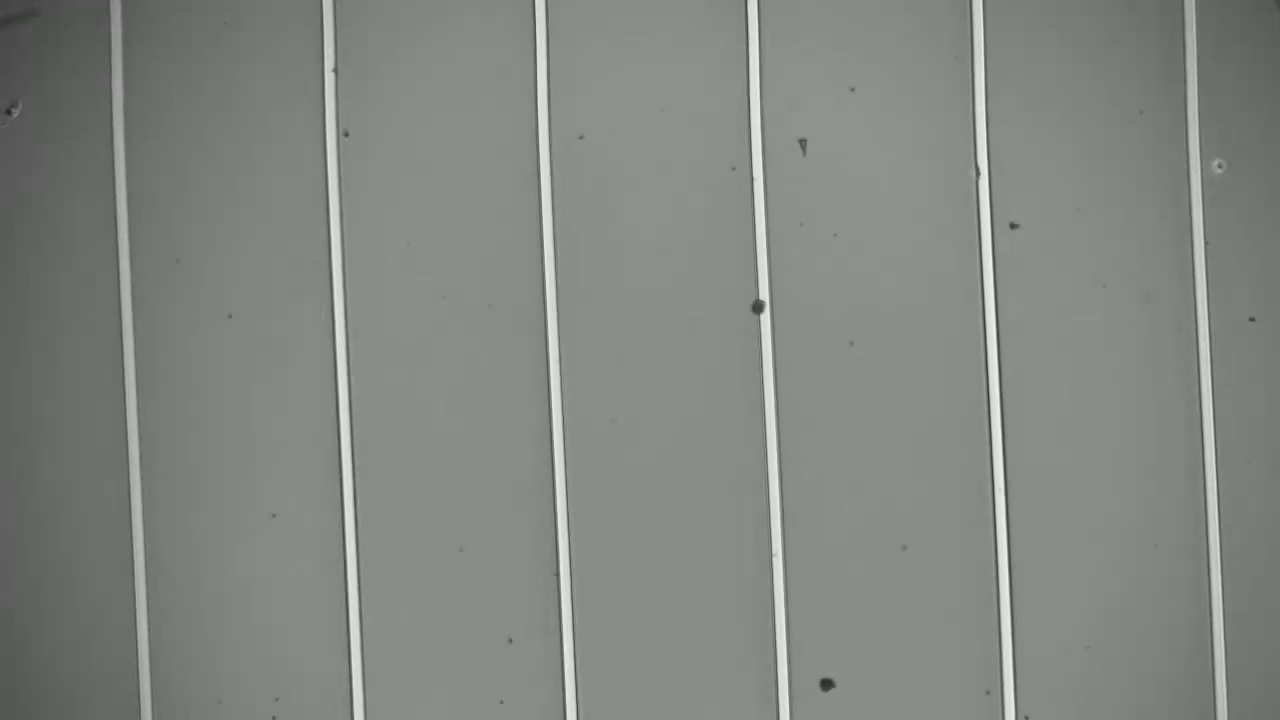stains_enbedded: (746, 292, 785, 324)
